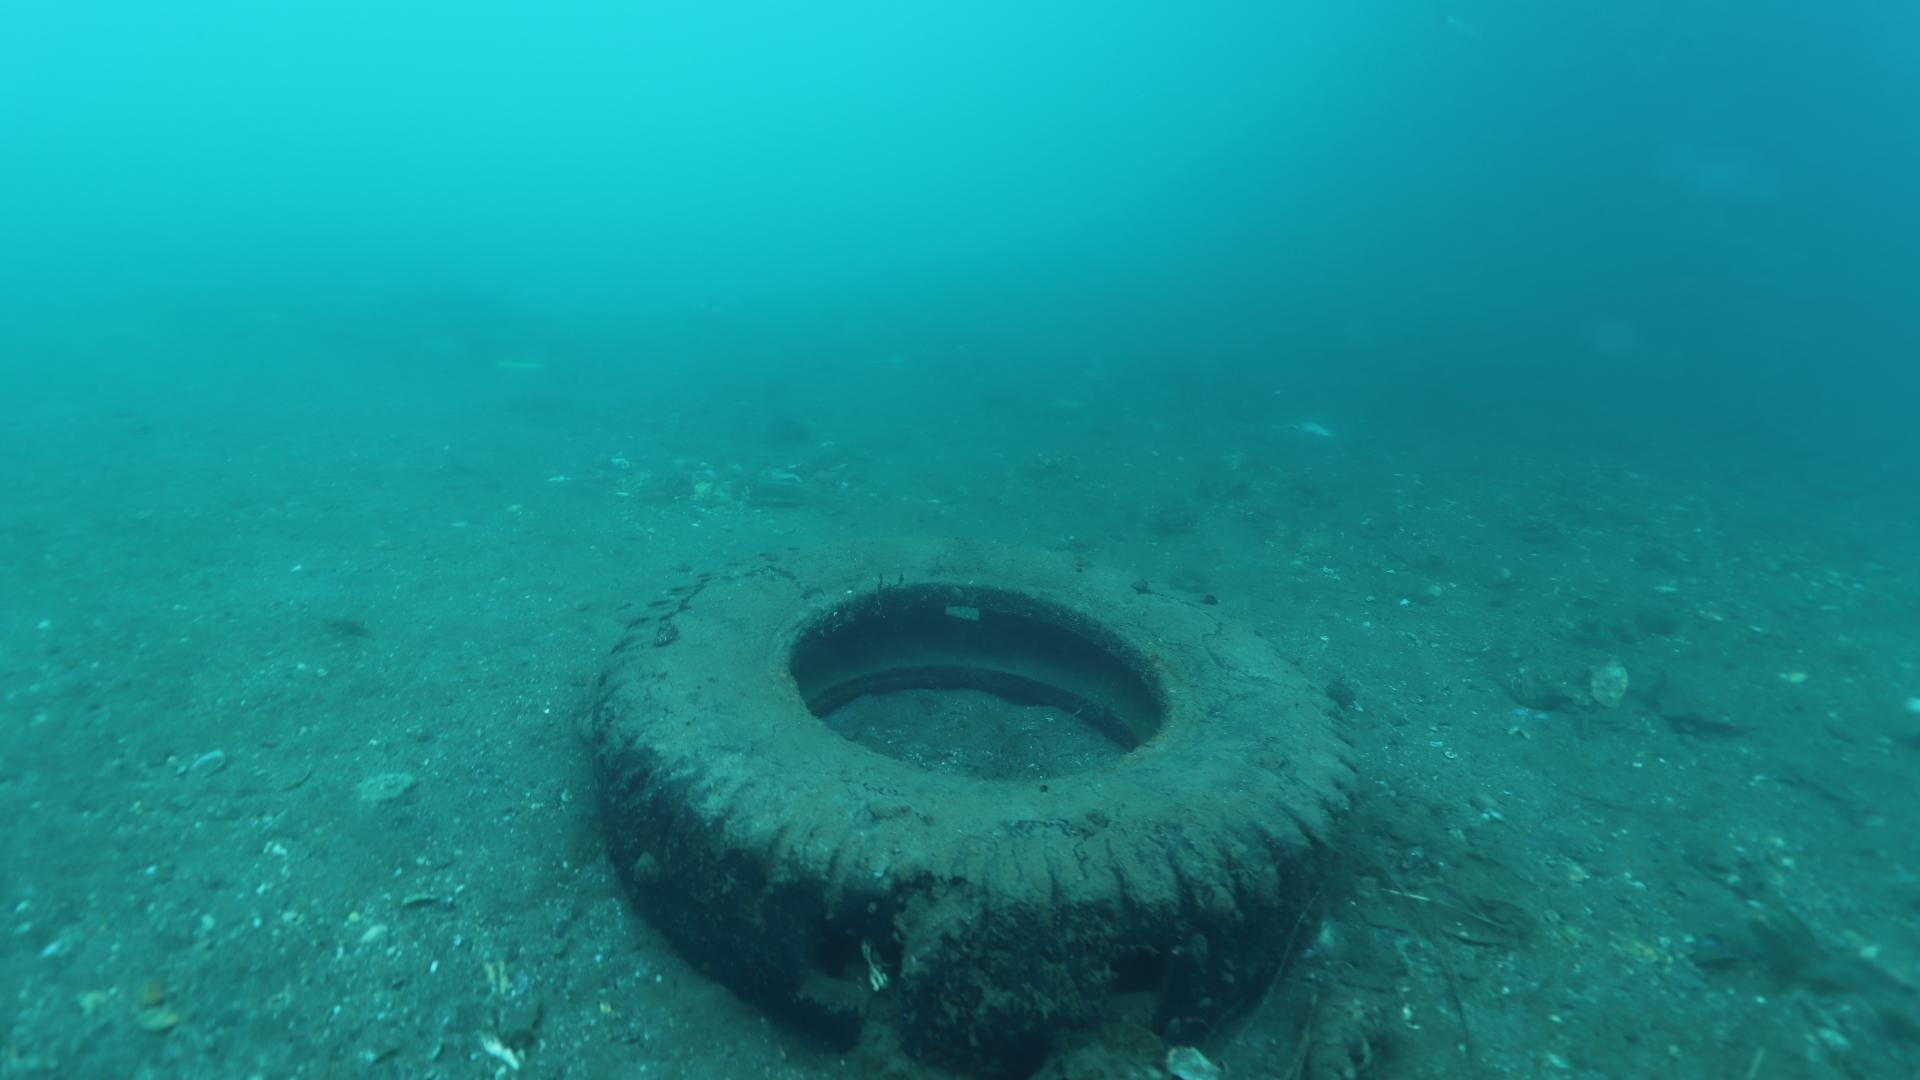tire: (587, 529, 1353, 1050)
